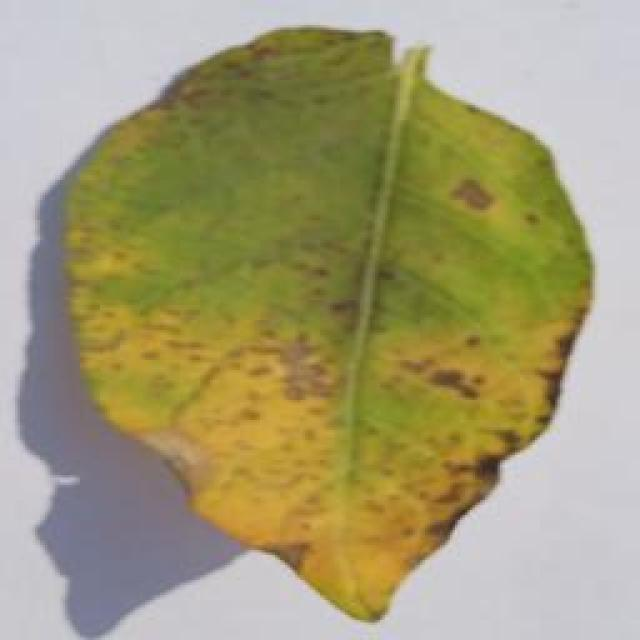Potato_Early_Blight: (38, 23, 597, 630)
